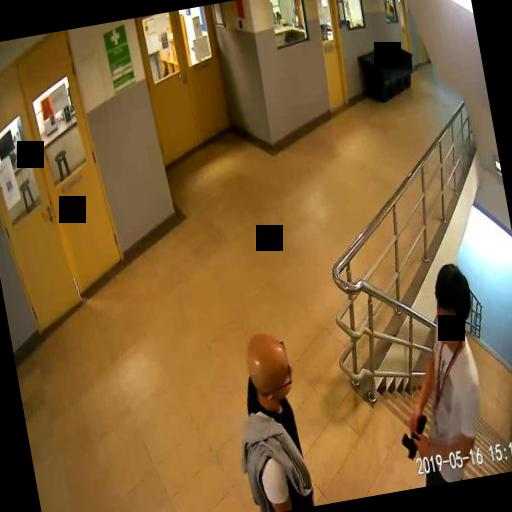Handgun: (395, 414, 430, 460)
